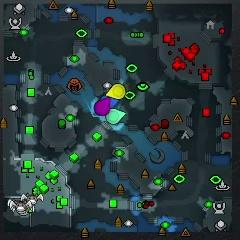p1: (100, 94, 119, 108)
p2: (105, 107, 126, 124)
p3: (95, 98, 110, 115)
p4: (107, 83, 124, 100)
